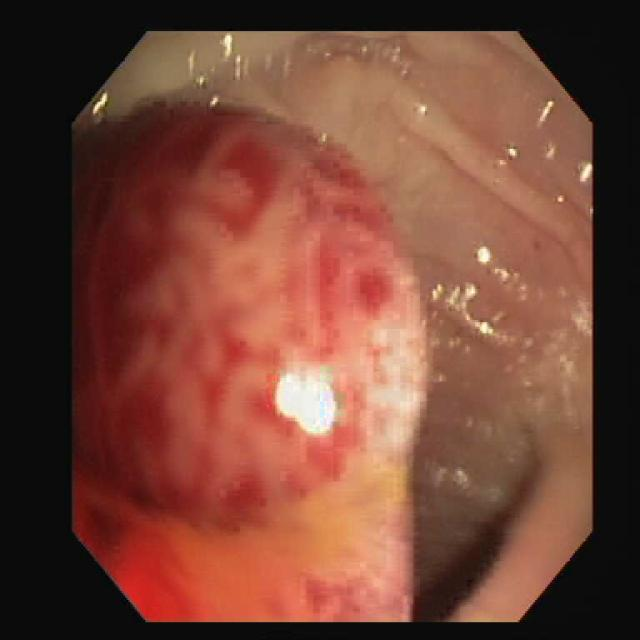tumor: (75, 104, 425, 618)
